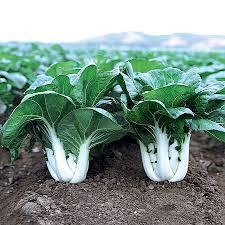Healthy-Pechay: (1, 40, 224, 163)
